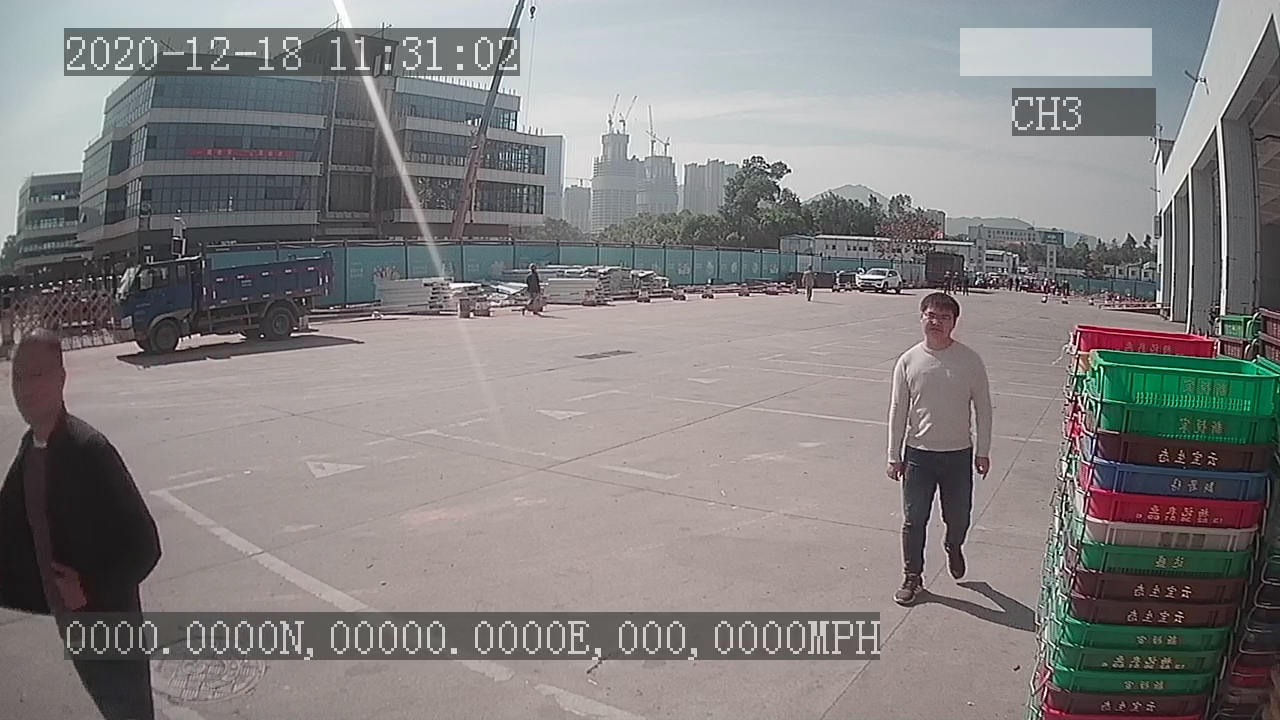person: (887, 287, 992, 605)
